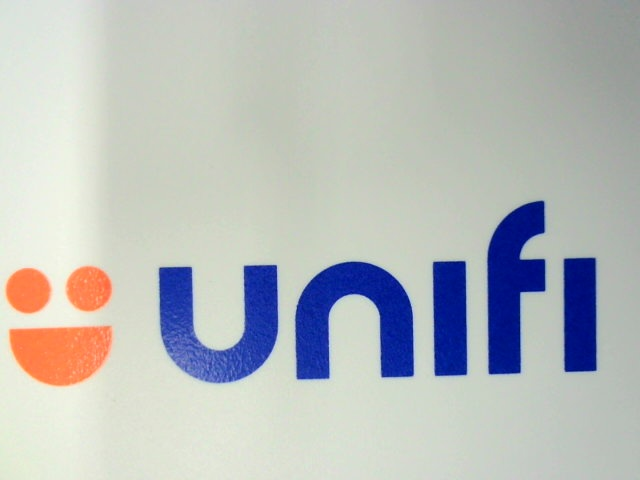BN_unifi: (5, 197, 608, 387)
